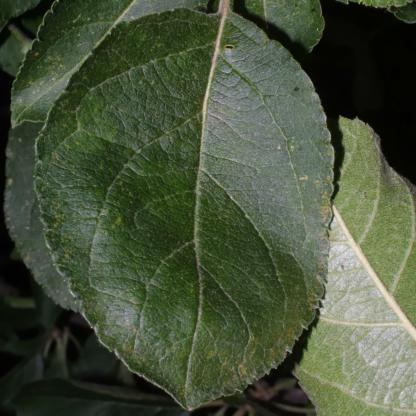apple leaf: (34, 6, 348, 408)
